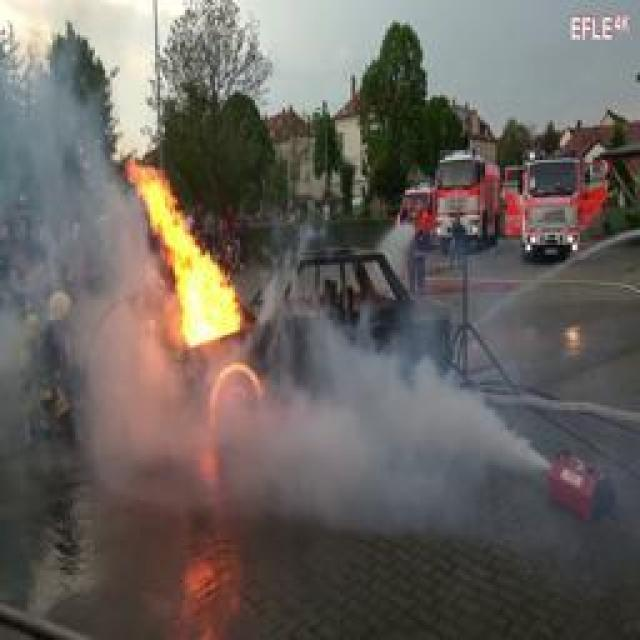Fire: (124, 164, 243, 350)
Smoke: (113, 333, 504, 504), (0, 56, 111, 444)
